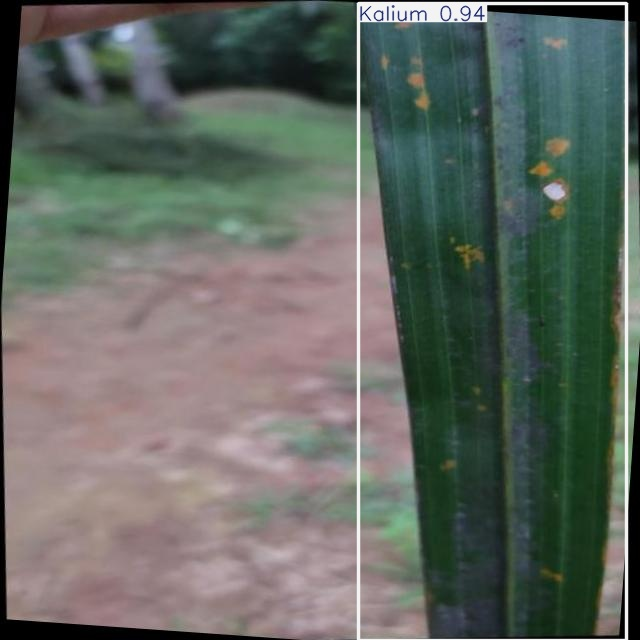Kalium: (359, 3, 626, 640)
